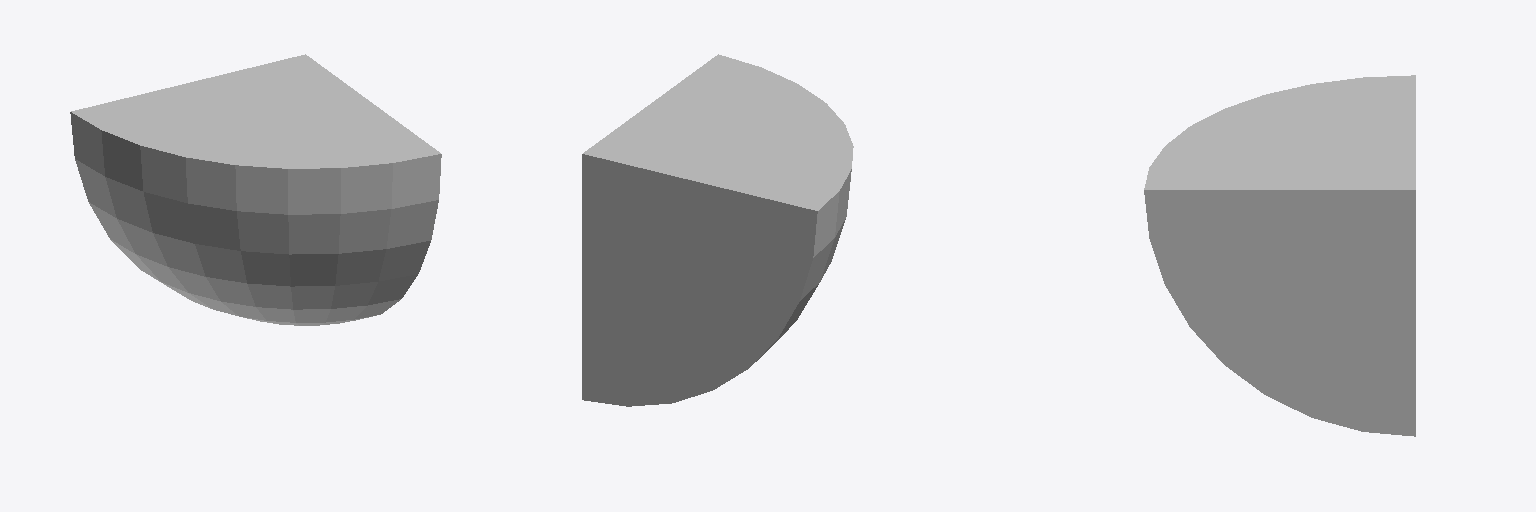
Rendered from quarter.obj.
The picture shows the model from 3 angles: view 1: azimuth 30°, elevation 25°; view 2: azimuth 150°, elevation 25°; view 3: azimuth 270°, elevation 25°; orthographic projection.
Parts seen in each view (by area): view 1: Sphere; view 2: Sphere; view 3: Sphere.
Boxes of the visible parts, x1=… form: Sphere: x1=70, y1=54, x2=441, y2=325; Sphere: x1=582, y1=54, x2=853, y2=406; Sphere: x1=1144, y1=75, x2=1415, y2=436.
Size of the model in its own units: 1 by 1 by 1.